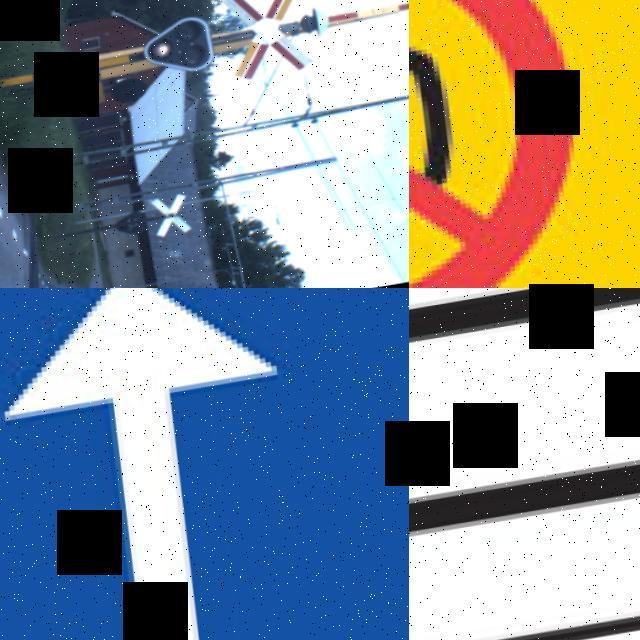62: (216, 0, 323, 90)
66: (409, 288, 640, 640)
94: (0, 288, 409, 640)
No entry for motor vehicles: (409, 0, 640, 288)
